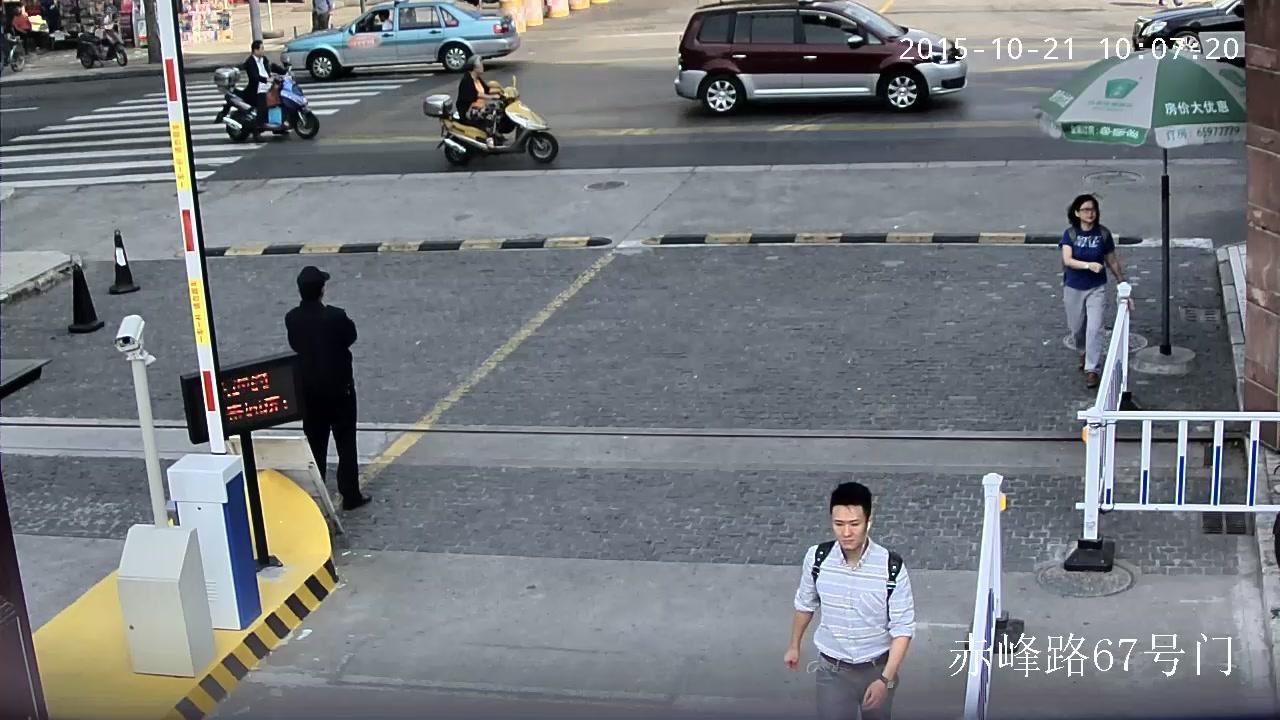person: (780, 480, 913, 720), (284, 265, 371, 509), (422, 51, 558, 162), (1058, 193, 1134, 386), (213, 39, 319, 140), (456, 52, 511, 146), (240, 40, 285, 126), (11, 6, 31, 53), (365, 10, 392, 31), (312, 0, 330, 31)
